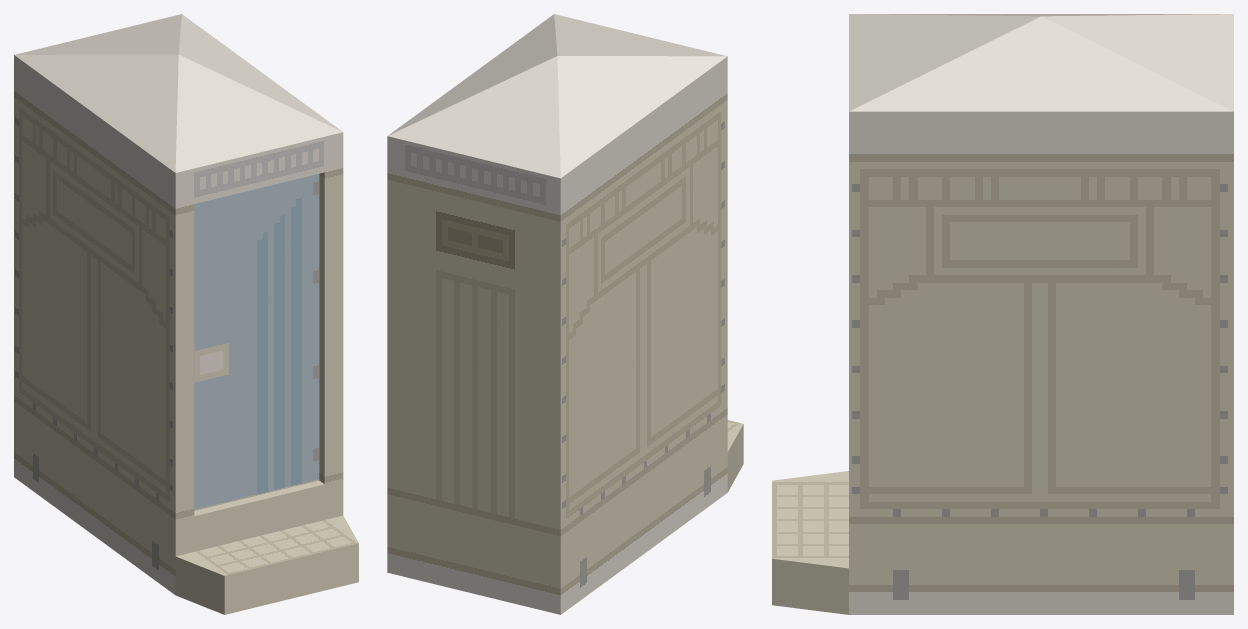
Rendered from 0164_Port-A-Potty.glb.
3 views of the same model, side by side, from view 1: azimuth 30°, elevation 25°; view 2: azimuth 150°, elevation 25°; view 3: azimuth 270°, elevation 25° (orthographic). The views are drawn at different scales.
Parts seen in each view (by area): view 1: part_0; view 2: part_0; view 3: part_0.
Part boxes in pixels (x1,y1,x2,y2): part_0: [14, 14, 358, 614]; part_0: [387, 14, 743, 614]; part_0: [772, 14, 1233, 614].
Bounding box in the file's own units: 0.9 × 2.37 × 1.8.
1 material, 1 textured.
